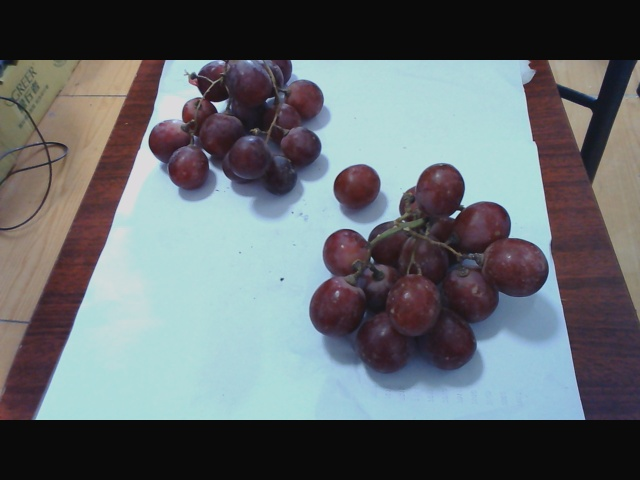grape: (296, 155, 560, 385), (152, 57, 322, 197)
